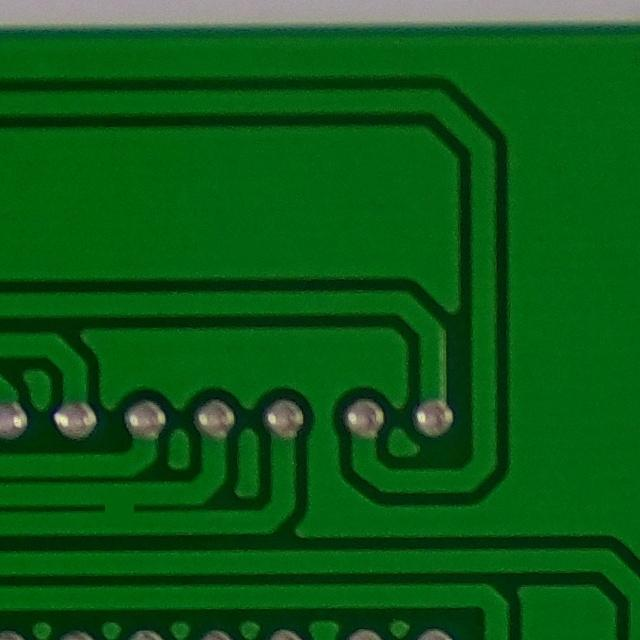short: (81, 480, 151, 539)
